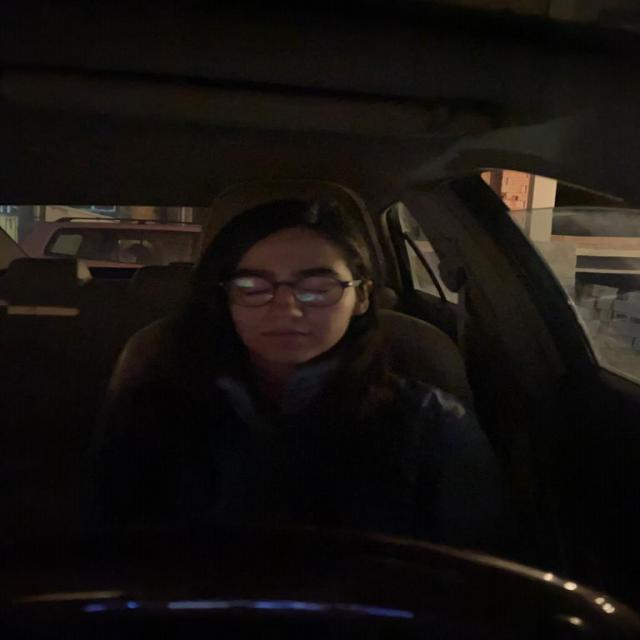drowsy: (208, 198, 380, 374)
